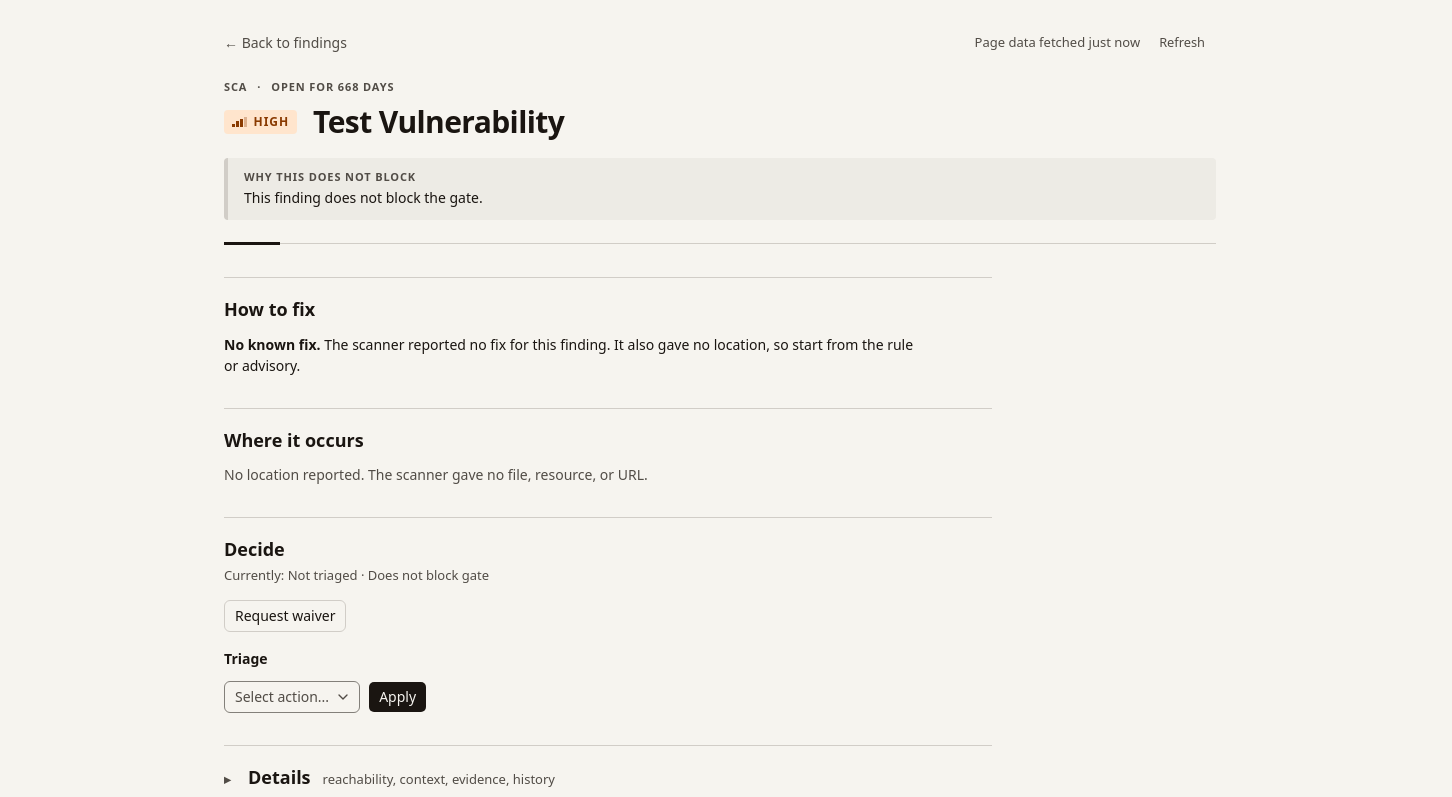
FindingDetail reachability rendering › truncates long evidence inline and keeps the full text reachable
Expected: the heading "Test Vulnerability" is shown, [313, 105, 564, 138]
Click the button "▸ Details reachability, context, evidence, history" at (279, 777), box [224, 762, 992, 794]
(page scrolled)
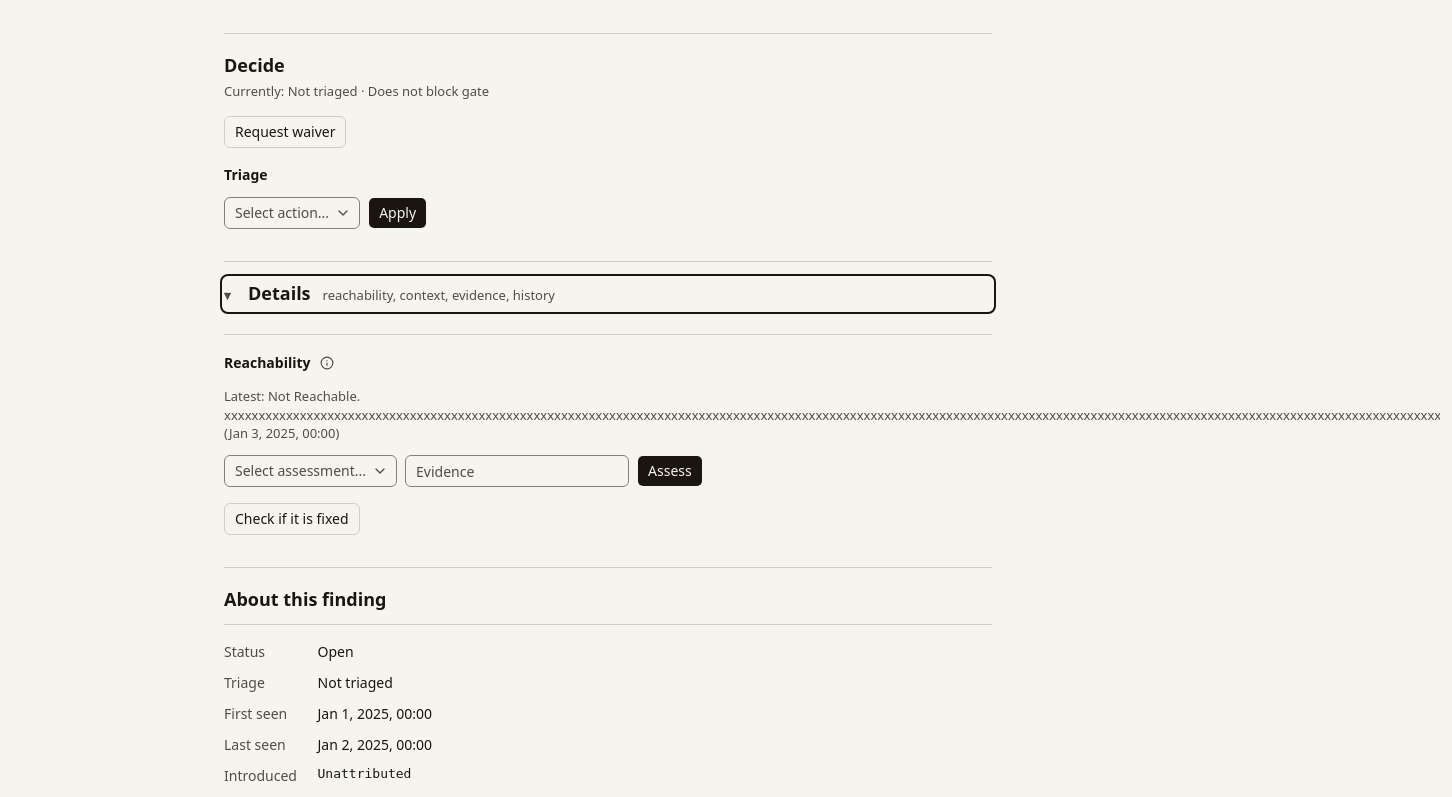
Expected: the element that starts with "Latest:" shows "…", [224, 387, 992, 443]
